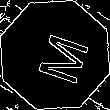M_W: (24, 25, 86, 85)
